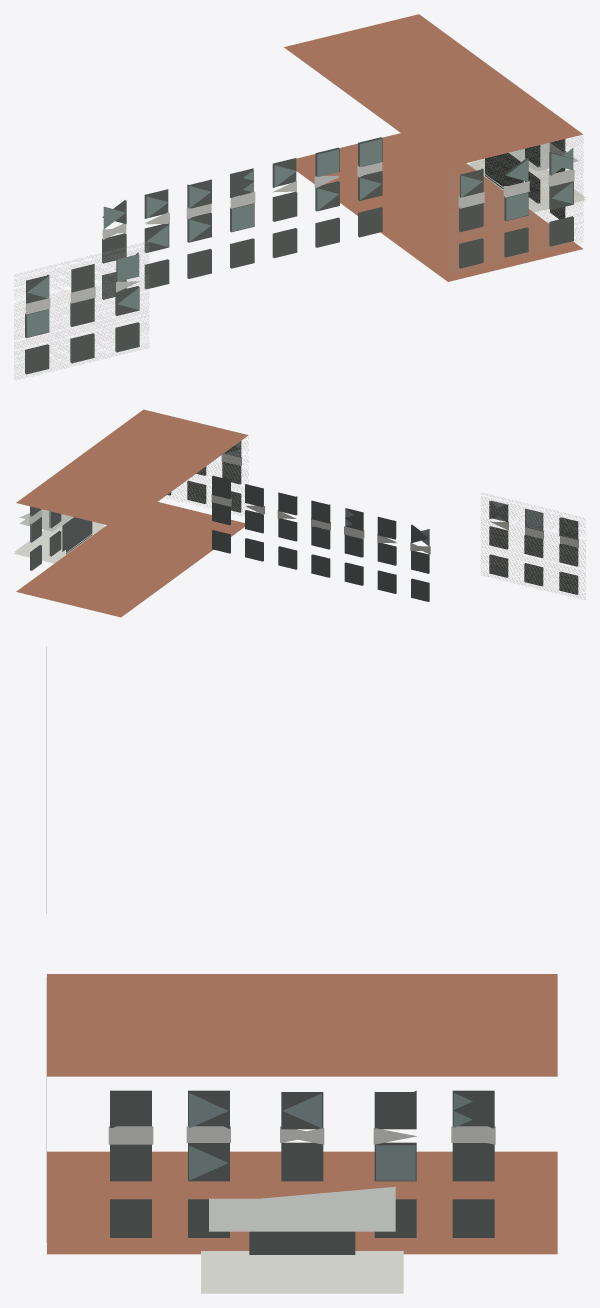
File: buildings-55-medium.glb
3 renders of one model, top to bottom at view 1: azimuth 30°, elevation 25°; view 2: azimuth 150°, elevation 25°; view 3: azimuth 270°, elevation 25°, orthographic. The views are drawn at different scales.
Visible parts, largest first — view 1: 化学楼 · Chemistry red brick.001, 化学楼 · Chemistry dark frames.001, 化学楼 · Chemistry glazing.001, 化学楼 · Chemistry joints.001, 化学楼 · Chemistry pale panels.001, 化学楼 · Chemistry canopy tile.001; view 2: 化学楼 · Chemistry red brick.001, 化学楼 · Chemistry dark frames.001, 化学楼 · Chemistry joints.001, 化学楼 · Chemistry pale panels.001, 化学楼 · Chemistry glazing.001, 化学楼 · Chemistry canopy tile.001; view 3: 化学楼 · Chemistry red brick.001, 化学楼 · Chemistry dark frames.001, 化学楼 · Chemistry pale panels.001, 化学楼 · Chemistry canopy tile.001, 化学楼 · Chemistry glazing.001.
Boxes of the visible parts, bbox=[...] form: 化学楼 · Chemistry red brick.001: bbox=[284, 14, 582, 281]; 化学楼 · Chemistry dark frames.001: bbox=[25, 137, 573, 374]; 化学楼 · Chemistry glazing.001: bbox=[27, 139, 573, 337]; 化学楼 · Chemistry joints.001: bbox=[14, 136, 583, 379]; 化学楼 · Chemistry pale panels.001: bbox=[25, 143, 585, 314]; 化学楼 · Chemistry canopy tile.001: bbox=[510, 143, 578, 171]; 化学楼 · Chemistry red brick.001: bbox=[16, 409, 248, 617]; 化学楼 · Chemistry dark frames.001: bbox=[30, 441, 578, 601]; 化学楼 · Chemistry joints.001: bbox=[164, 437, 585, 599]; 化学楼 · Chemistry pale panels.001: bbox=[14, 453, 578, 563]; 化学楼 · Chemistry glazing.001: bbox=[30, 441, 577, 572]; 化学楼 · Chemistry canopy tile.001: bbox=[19, 509, 72, 531]; 化学楼 · Chemistry red brick.001: bbox=[47, 974, 557, 1254]; 化学楼 · Chemistry dark frames.001: bbox=[110, 1090, 494, 1254]; 化学楼 · Chemistry pale panels.001: bbox=[108, 1126, 495, 1293]; 化学楼 · Chemistry canopy tile.001: bbox=[209, 1186, 395, 1231]; 化学楼 · Chemistry glazing.001: bbox=[189, 1093, 472, 1180].
Bounding box in the file's own units: 71.6 × 12.6 × 33.1.
